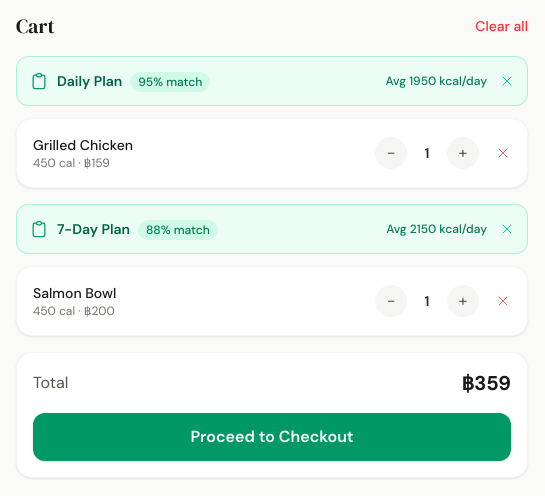
it: CartPage › removes a plan and its items when remove button is clicked
// Remove the first plan (Daily Plan)
Click the button named "Remove daily plan".
click(507, 81)  # box [499,73,515,89]
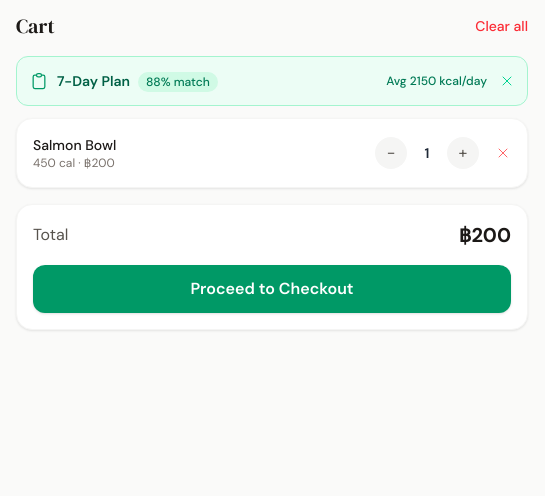
Expected: the heading "Salmon Bowl" is shown, [33,136,116,154]
Result: the heading "Grilled Chicken" is gone
Result: the text "Daily Plan" is gone
